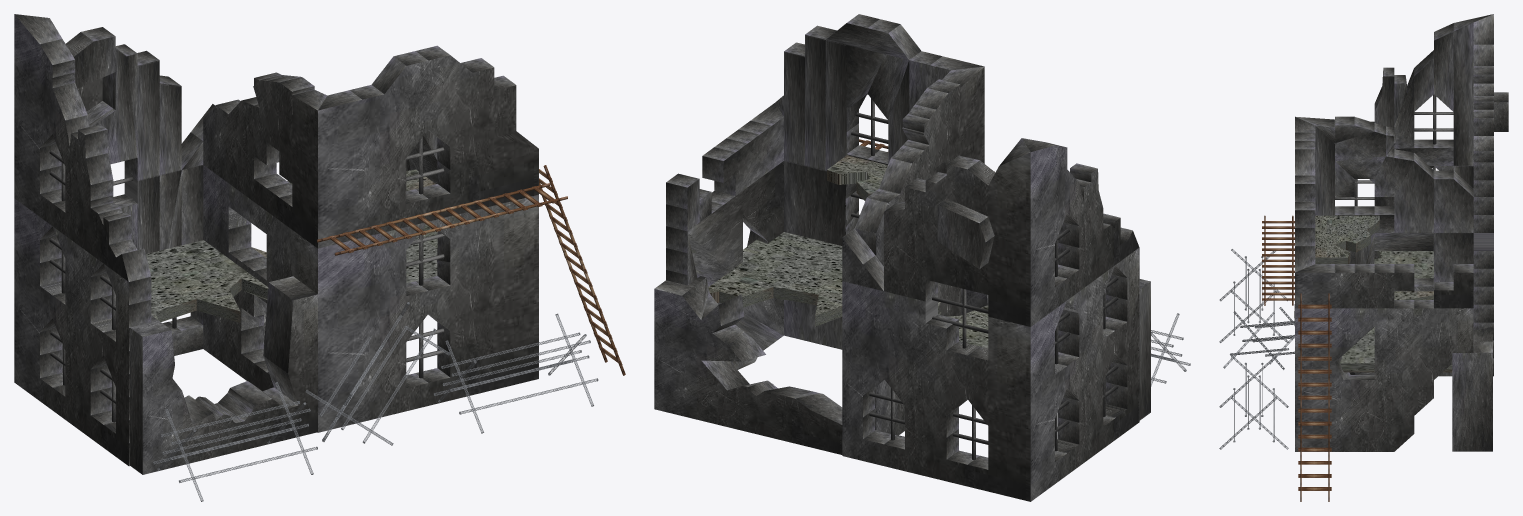
File: Дом 2 разваленный.fbx
3 renders of one model, left to right at view 1: azimuth 30°, elevation 25°; view 2: azimuth 150°, elevation 25°; view 3: azimuth 270°, elevation 25°, orthographic. The views are drawn at different scales.
Parts seen in each view (by area): view 1: Основа, Объект_Куб_2, Объект_Куб_3, Решётки_на_окнах, Железка1_1, Железка1, лесница, лесница_1, Железка_2, Объект_Куб_4; view 2: Основа, Объект_Куб, Объект_Куб_4, Решётки_на_окнах, Объект_Куб_2, Объект_Куб_5, Объект_Куб_3, Железка1; view 3: Основа, Объект_Куб, лесница_1, Объект_Куб_5, лесница, Объект_Куб_4, Железка1_1, Железка_2, Железка1, Объект_Куб_3, Решётки_на_окнах.
Part boxes in pixels (left/top/right/bottom): Основа: left=14, top=14, right=538, bottom=466; Объект_Куб_2: left=129, top=276, right=317, bottom=474; Объект_Куб_3: left=146, top=240, right=268, bottom=322; Решётки_на_окнах: left=49, top=136, right=444, bottom=421; Железка1_1: left=434, top=313, right=598, bottom=433; Железка1: left=153, top=382, right=317, bottom=501; лесница: left=317, top=183, right=567, bottom=255; лесница_1: left=539, top=165, right=625, bottom=375; Железка_2: left=305, top=302, right=449, bottom=445; Объект_Куб_4: left=252, top=224, right=437, bottom=283; Основа: left=666, top=14, right=1139, bottom=501; Объект_Куб: left=654, top=276, right=842, bottom=454; Объект_Куб_4: left=708, top=232, right=842, bottom=326; Решётки_на_окнах: left=850, top=98, right=1118, bottom=459; Объект_Куб_2: left=961, top=279, right=1150, bottom=420; Объект_Куб_5: left=827, top=155, right=887, bottom=200; Объект_Куб_3: left=938, top=302, right=988, bottom=348; Железка1: left=1151, top=313, right=1190, bottom=386; Основа: left=1295, top=14, right=1508, bottom=451; Объект_Куб: left=1452, top=327, right=1492, bottom=451; лесница_1: left=1298, top=293, right=1331, bottom=501; Объект_Куб_5: left=1315, top=215, right=1379, bottom=263; лесница: left=1262, top=215, right=1294, bottom=305; Объект_Куб_4: left=1339, top=291, right=1452, bottom=372; Железка1_1: left=1219, top=355, right=1288, bottom=449; Железка_2: left=1223, top=307, right=1294, bottom=369; Железка1: left=1219, top=249, right=1288, bottom=342; Объект_Куб_3: left=1374, top=251, right=1433, bottom=278; Решётки_на_окнах: left=1335, top=94, right=1453, bottom=206.
Bounding box in the file's own units: 8892 × 6767 × 5846.
Materials: 5 (5 with a texture image).
